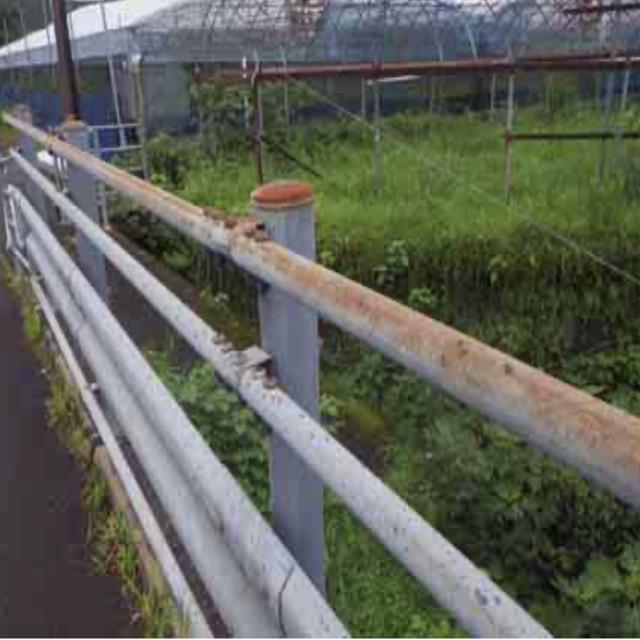corrosion: (241, 163, 313, 220)
